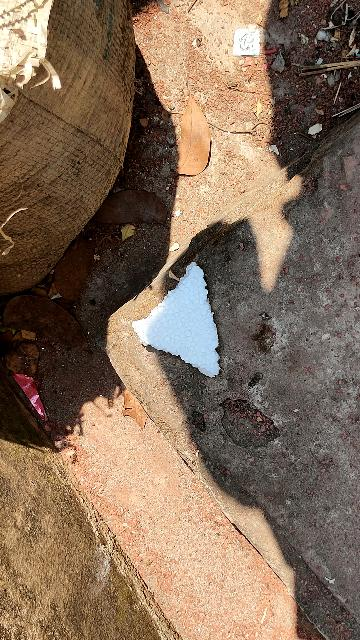cocksheet: (129, 253, 240, 389)
